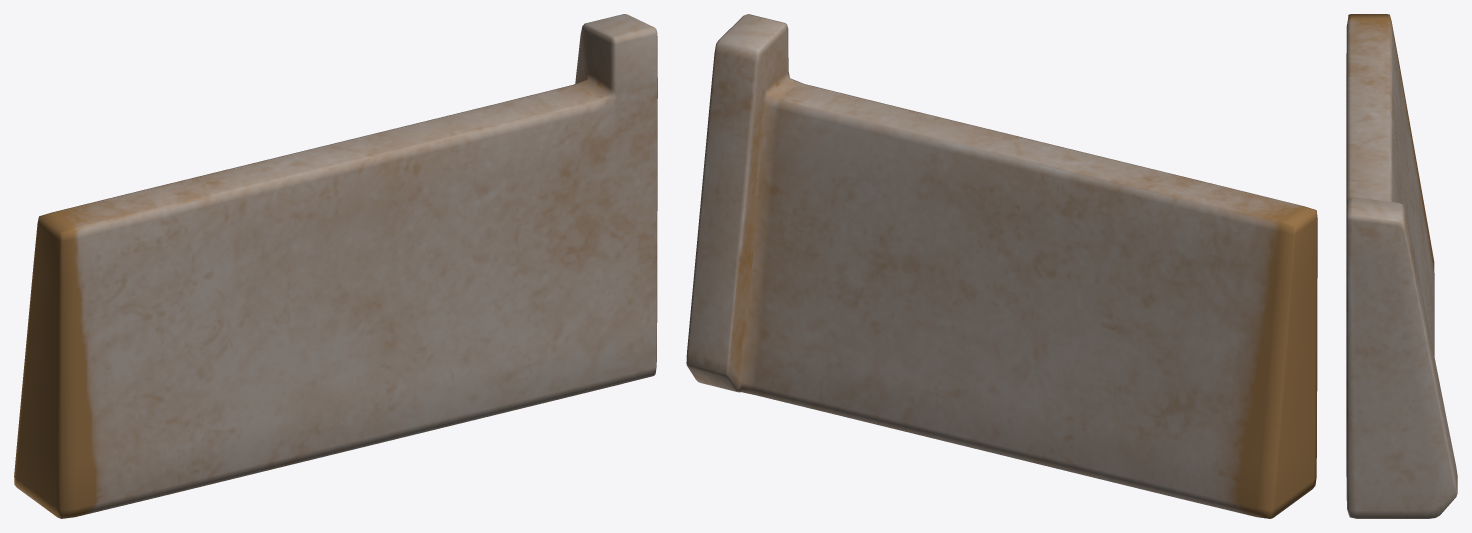
The model's file is wall1.fbx.
3 renders of one model, left to right at view 1: azimuth 30°, elevation 25°; view 2: azimuth 150°, elevation 25°; view 3: azimuth 270°, elevation 25°, orthographic. The views are drawn at different scales.
Parts seen in each view (by area): view 1: wall1; view 2: wall1; view 3: wall1.
Part boxes in pixels (x1,y1,x2,y2): wall1: (14,14,657,518); wall1: (686,14,1317,518); wall1: (1346,14,1457,518).
Size of the model in its own units: 2558 by 1433 by 474.
Materials: 1 (1 with a texture image).
